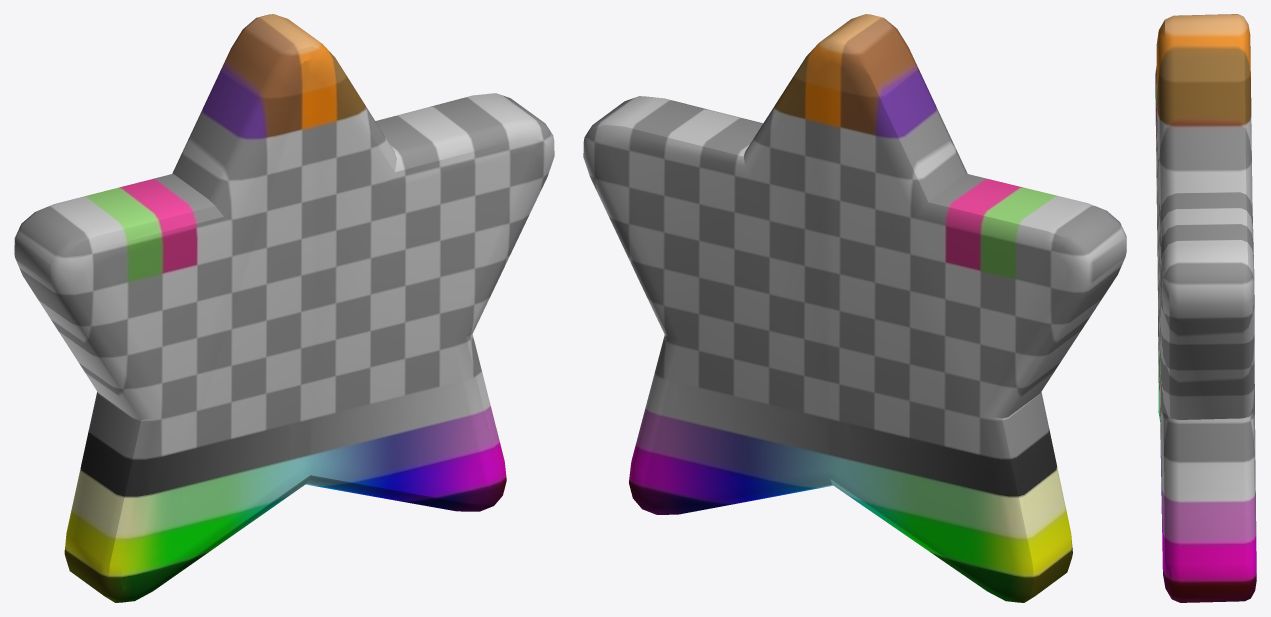
The model's file is Star.fbx.
3 views of the same model, side by side, from view 1: azimuth 30°, elevation 25°; view 2: azimuth 150°, elevation 25°; view 3: azimuth 270°, elevation 25° (orthographic). The views are drawn at different scales.
Parts seen in each view (by area): view 1: Star; view 2: Star; view 3: Star.
Part boxes in pixels (x1,y1,x2,y2): Star: (14,14,554,602); Star: (583,14,1126,602); Star: (1155,14,1256,602).
Size of the model in its own units: 79.83 by 78.24 by 14.4.
